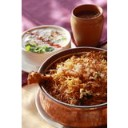briyani: (30, 53, 104, 103)
